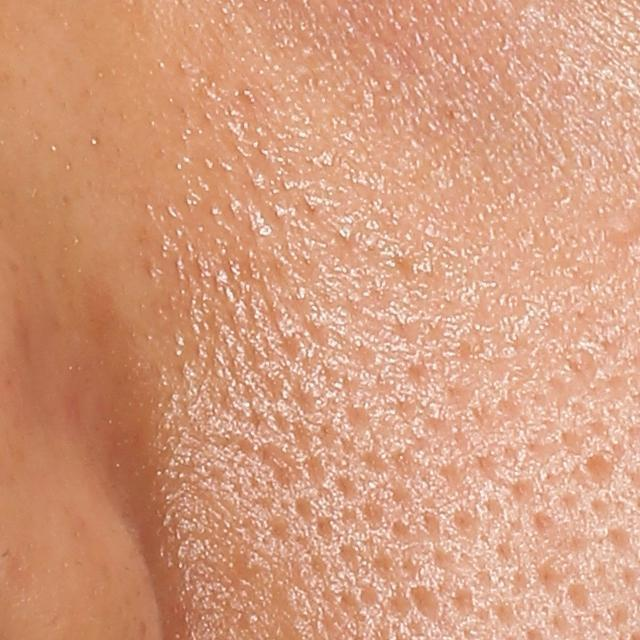atrophic_scar: (549, 345, 598, 406), (253, 446, 302, 491), (572, 452, 611, 491), (410, 585, 440, 622)
